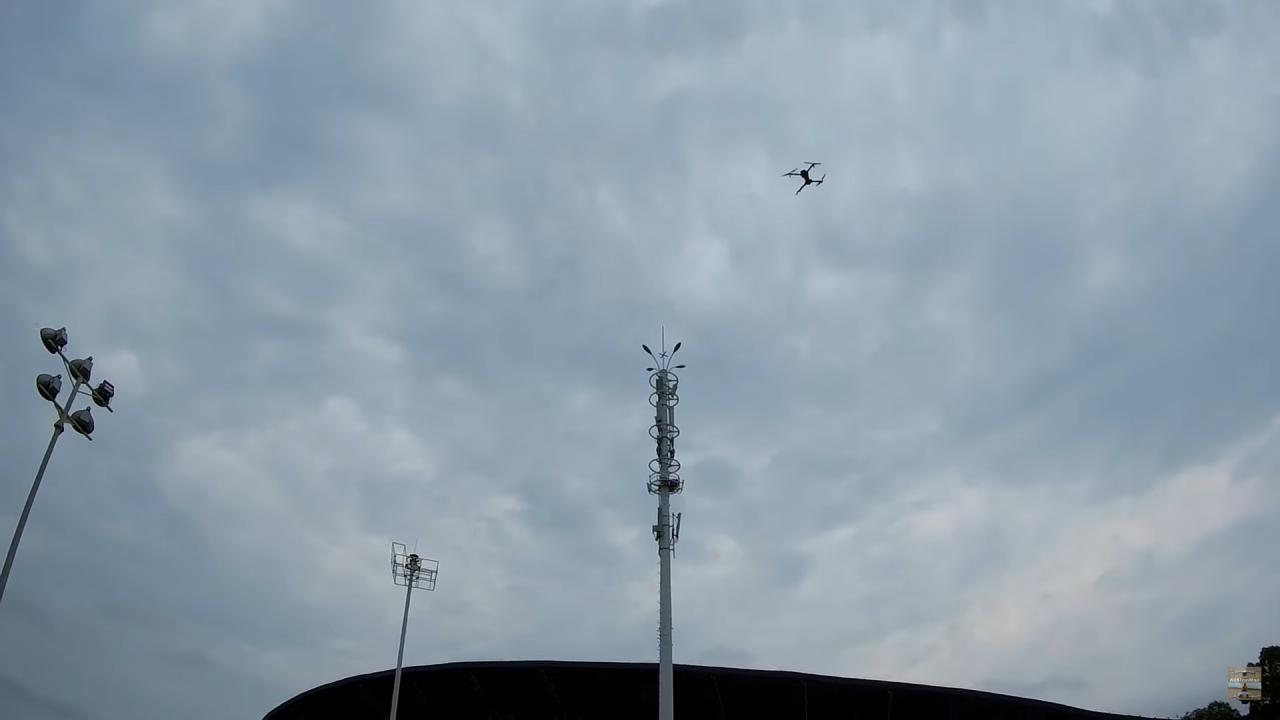Drone: (776, 152, 838, 206)
